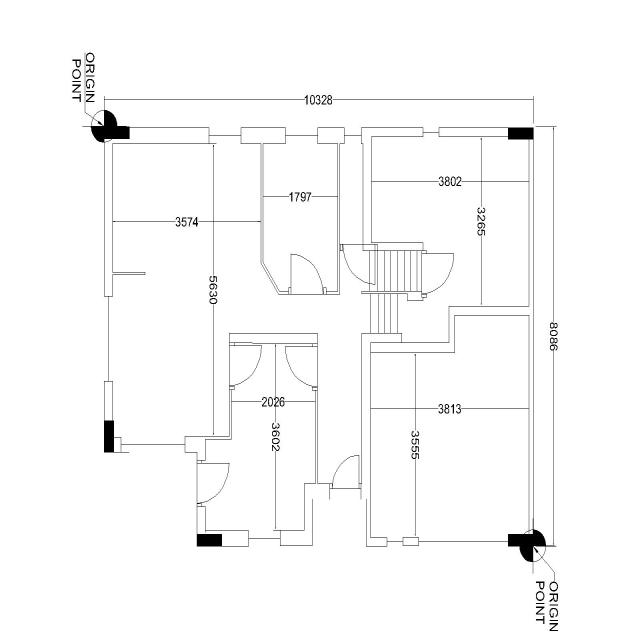Column: (104, 126, 130, 139), (508, 534, 533, 547), (104, 420, 114, 452), (197, 534, 222, 546), (508, 128, 533, 139)
Door: (228, 340, 263, 393), (287, 252, 328, 297), (196, 458, 231, 508), (284, 342, 318, 392), (421, 250, 455, 299), (328, 454, 364, 500)
Staircase: (341, 249, 422, 335)
